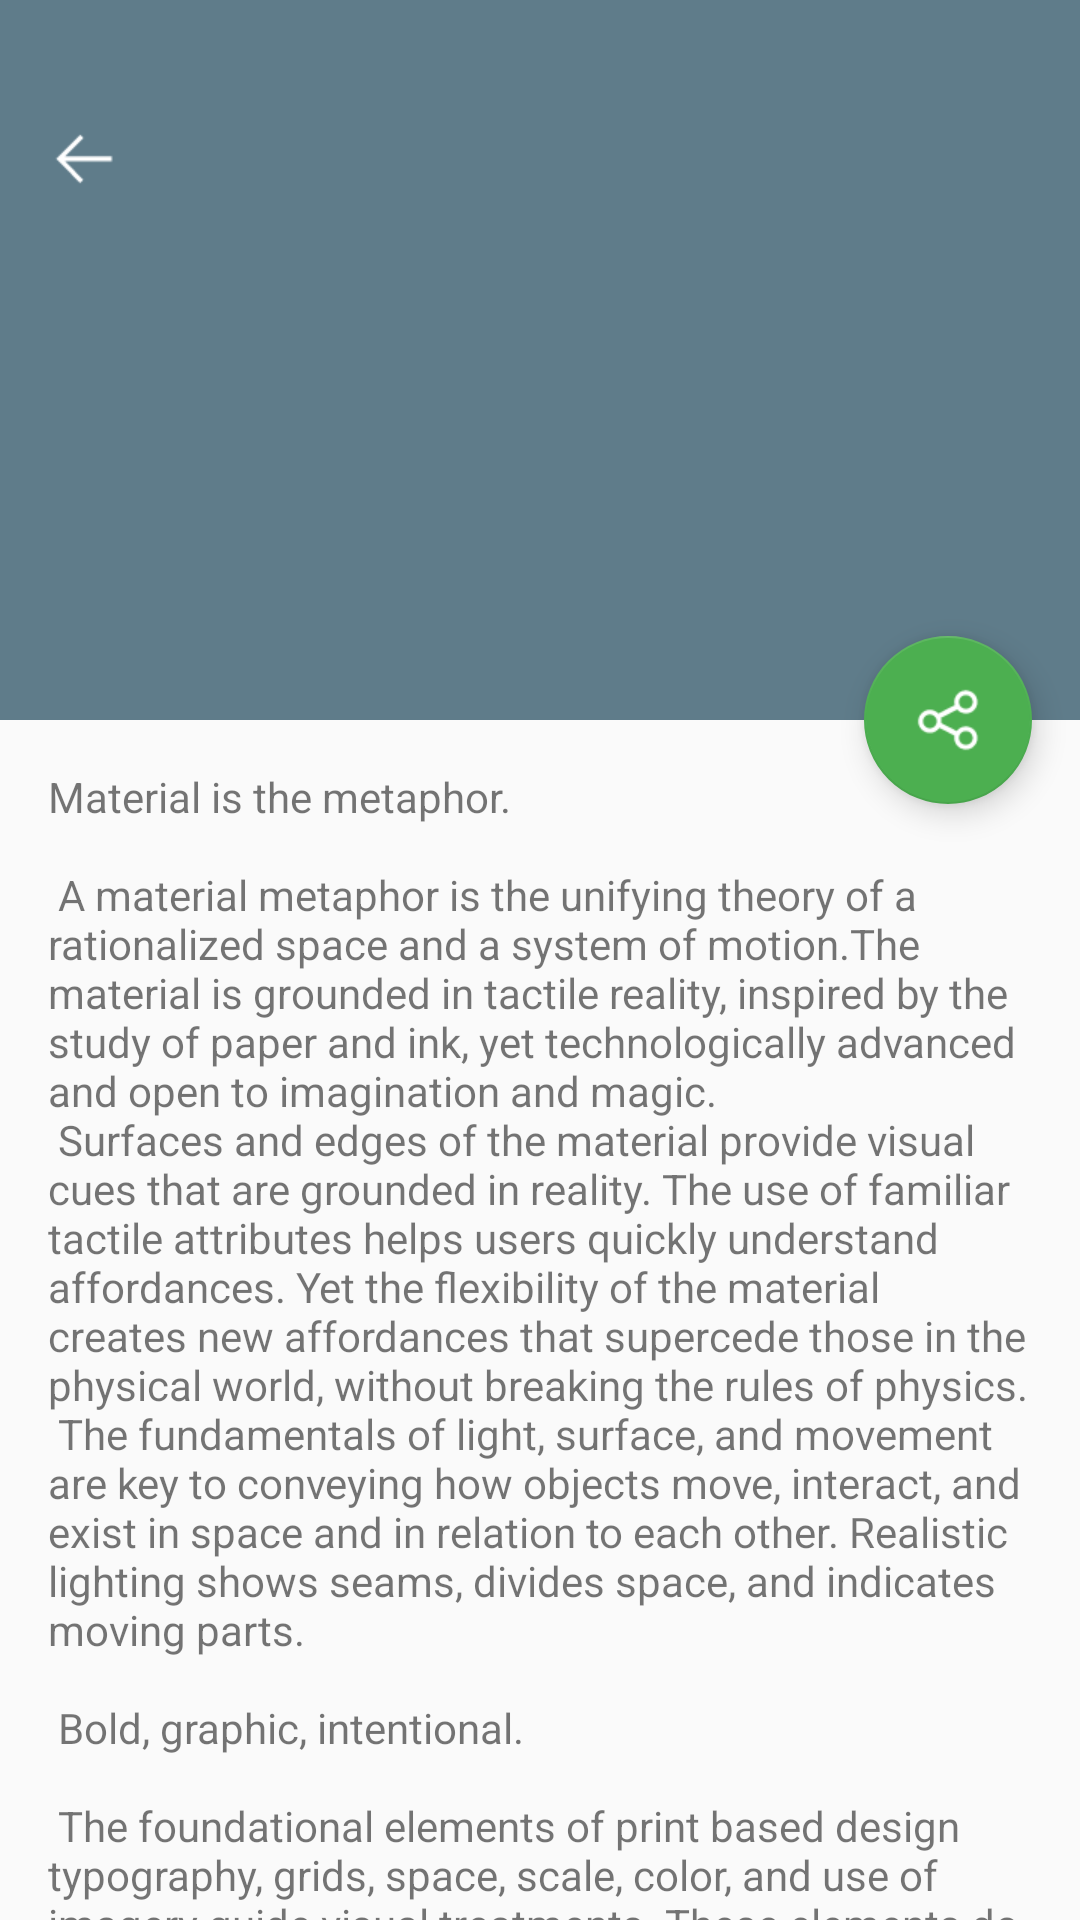

Screen size 1080px×1920px. Icon name, then its center in pixels as (x=x, y=y):
share: (x=948, y=720)
